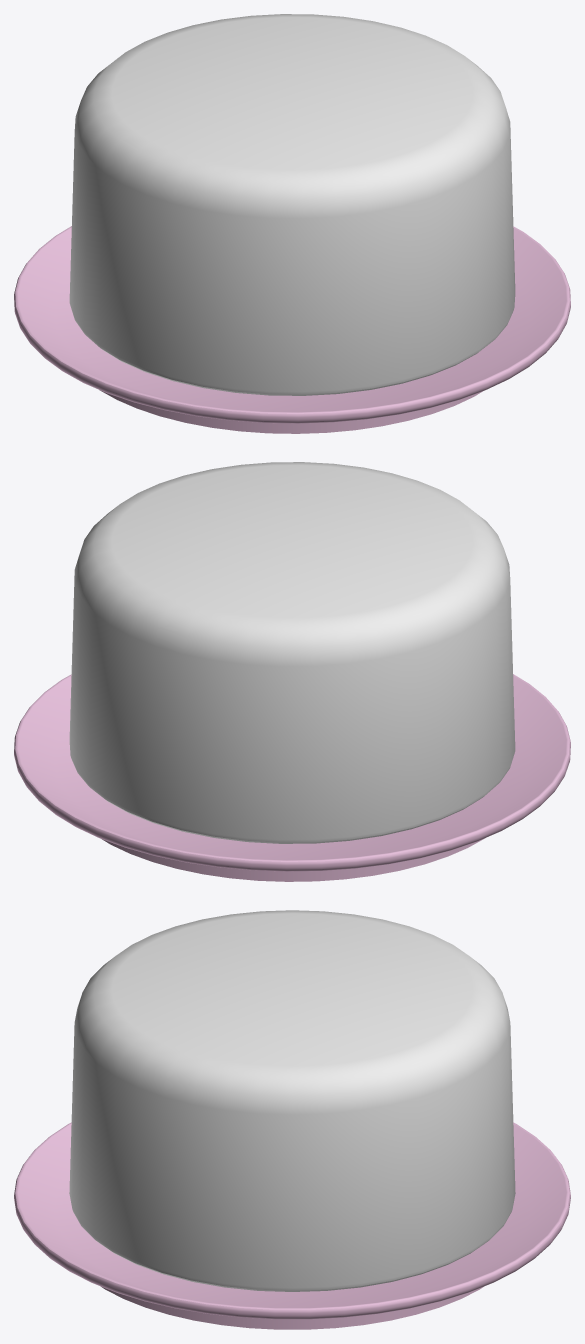
Rendered from cake_layer_1_v1 (1).glb.
3 renders of one model, top to bottom at view 1: azimuth 30°, elevation 25°; view 2: azimuth 150°, elevation 25°; view 3: azimuth 270°, elevation 25°, orthographic.
Visible parts, largest first — view 1: cream_base, cream_dish.001; view 2: cream_base, cream_dish.001; view 3: cream_base, cream_dish.001.
Boxes of the visible parts, x1,y1,x2,y2 form: cream_base: (69, 14, 515, 395); cream_dish.001: (14, 226, 570, 433); cream_base: (69, 462, 515, 843); cream_dish.001: (14, 674, 570, 881); cream_base: (69, 910, 515, 1291); cream_dish.001: (14, 1122, 570, 1329).
Bounding box in the file's own units: 5.04 × 2.42 × 5.05.
